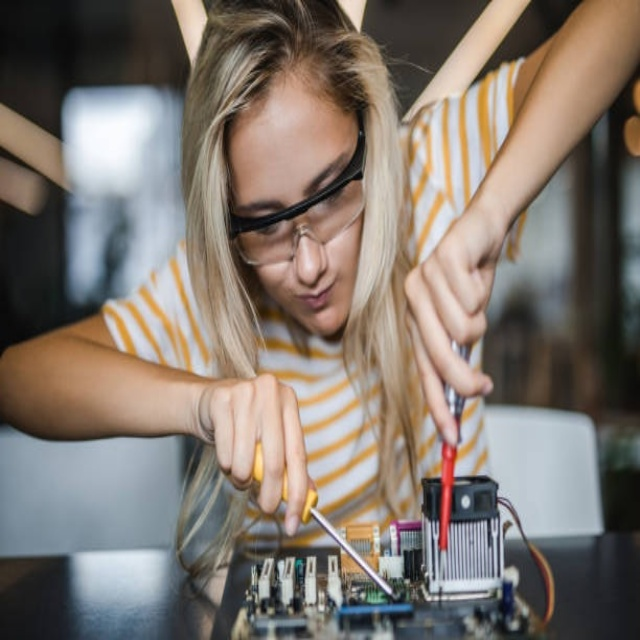Gafas: (226, 110, 368, 266)
Sin_guantes: (401, 233, 495, 447), (197, 370, 317, 528)
Sin_mascara: (287, 278, 350, 339)
